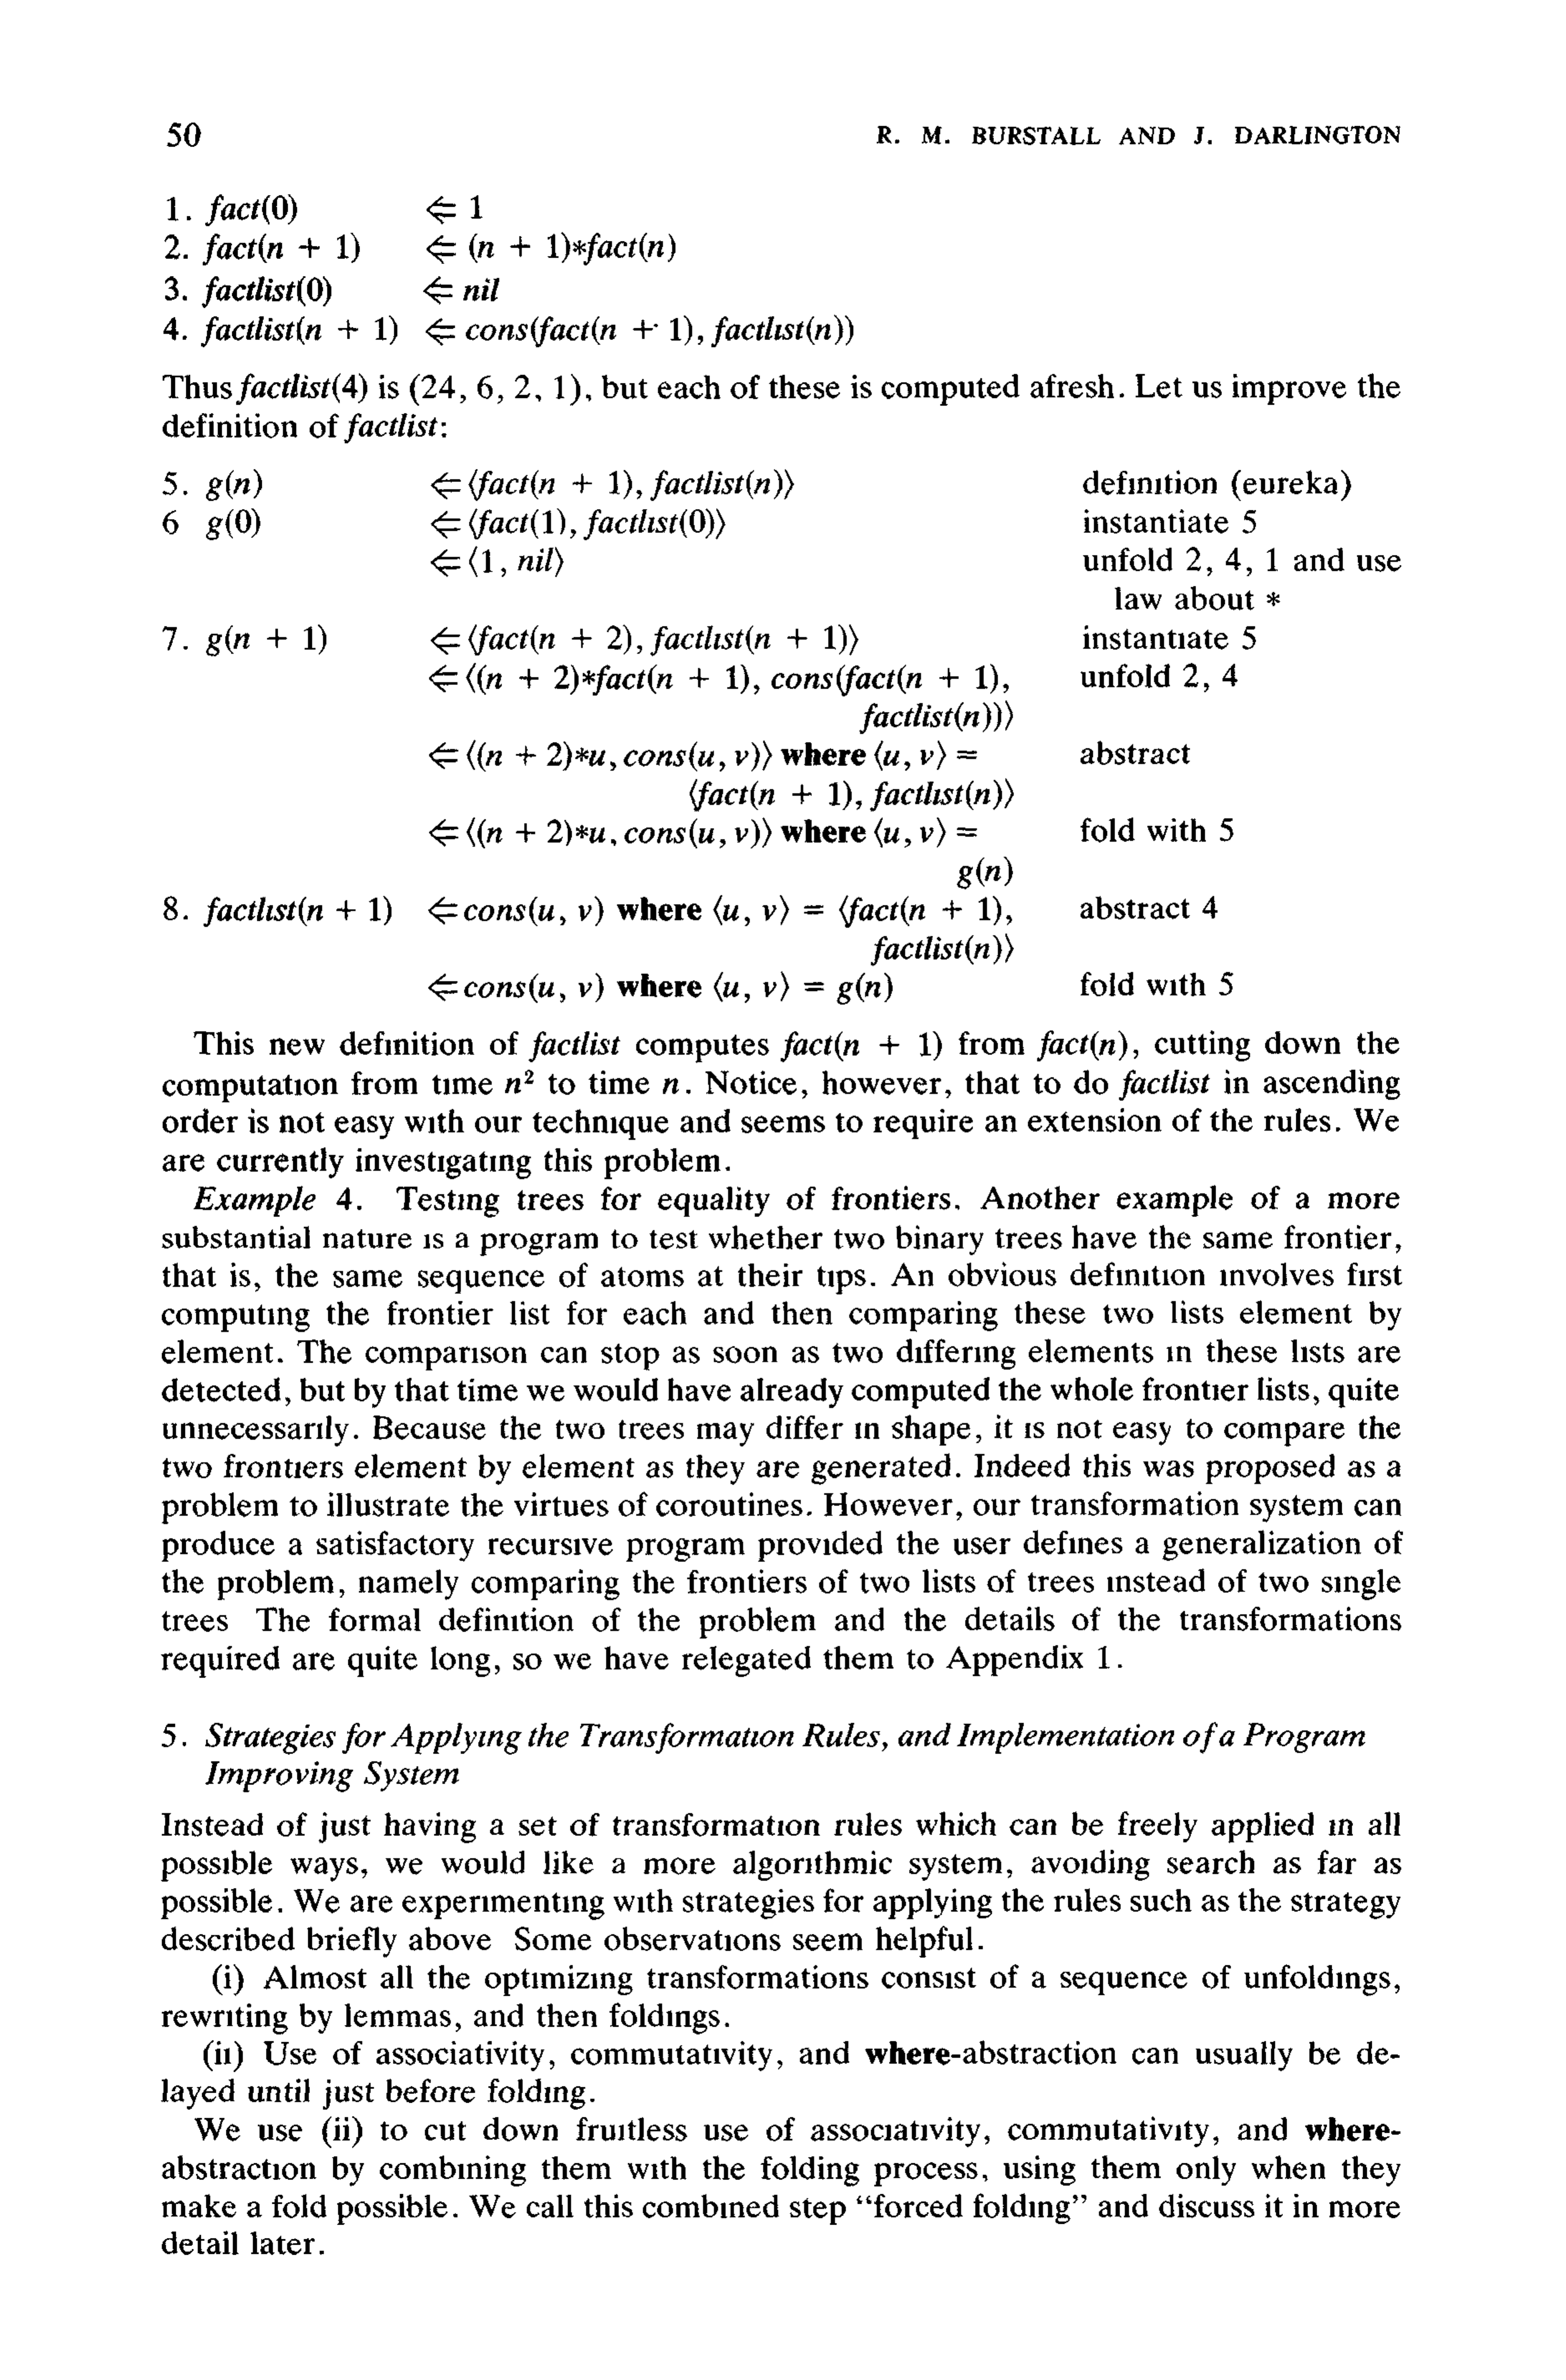maths: (430, 662, 998, 697), (426, 315, 853, 348), (432, 624, 858, 657), (204, 895, 603, 928), (430, 739, 781, 772), (432, 470, 793, 502), (690, 778, 1014, 813), (430, 818, 771, 849), (432, 509, 725, 540), (206, 194, 482, 227), (426, 232, 675, 266), (762, 895, 1001, 926), (201, 315, 397, 348), (411, 374, 580, 405), (203, 232, 360, 266), (428, 973, 603, 1003), (781, 1031, 942, 1062), (860, 701, 1012, 734), (870, 933, 1014, 966), (764, 972, 893, 1005), (236, 374, 367, 405), (203, 276, 332, 308), (206, 624, 327, 657), (432, 547, 563, 577), (865, 739, 977, 772), (344, 414, 447, 444), (528, 1031, 620, 1062), (1119, 1069, 1209, 1101), (1036, 1031, 1127, 1061), (423, 276, 500, 304), (956, 856, 1012, 889), (206, 470, 262, 502), (919, 818, 977, 848), (206, 509, 260, 540), (713, 895, 750, 926), (713, 972, 750, 1003), (874, 818, 911, 848), (505, 1069, 533, 1094), (1012, 1415, 1024, 1447), (1225, 547, 1241, 570), (1187, 547, 1201, 571), (1267, 547, 1278, 571), (662, 1078, 678, 1094)
